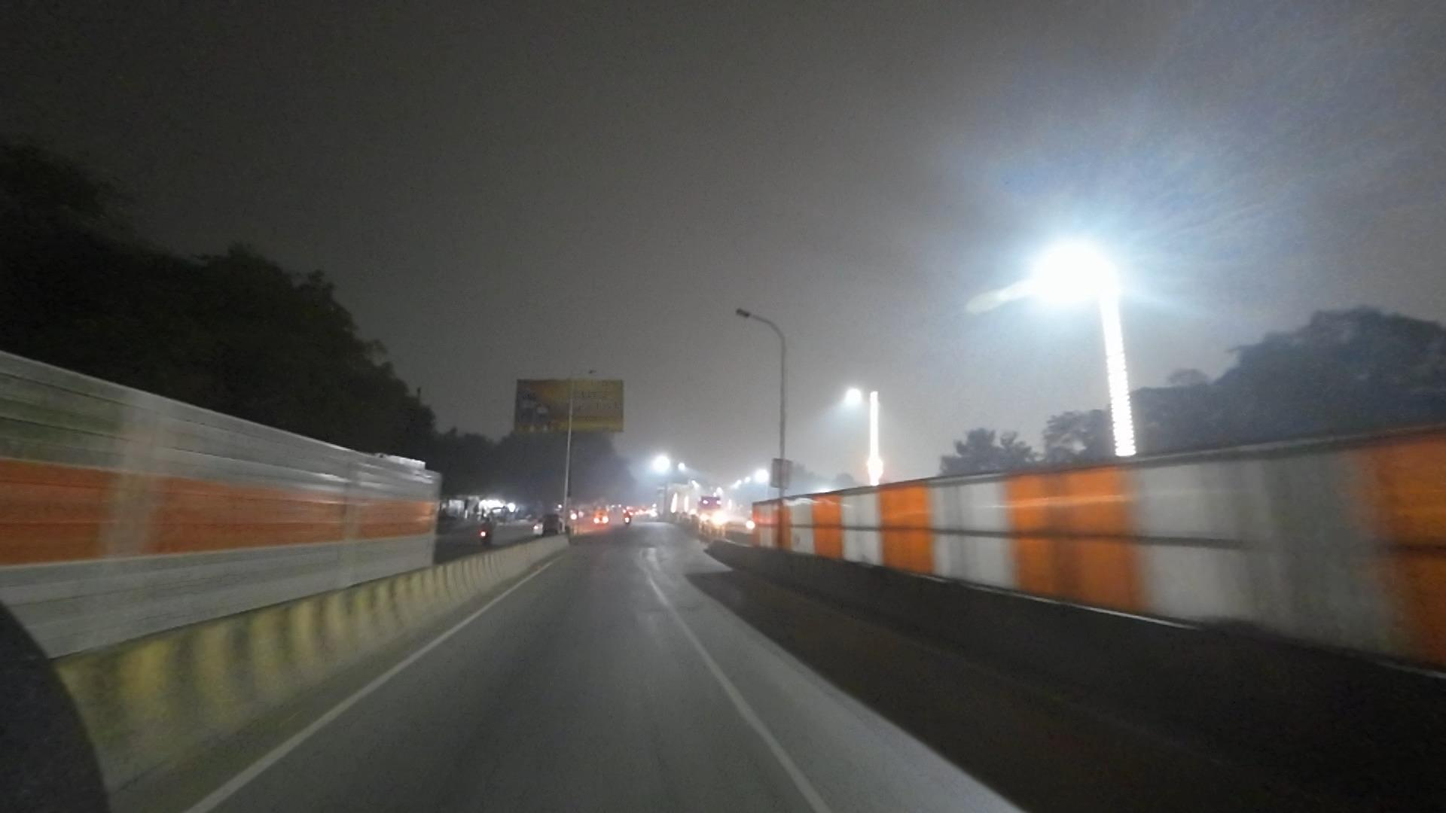streetlight: (731, 305, 772, 322), (577, 369, 602, 378)
